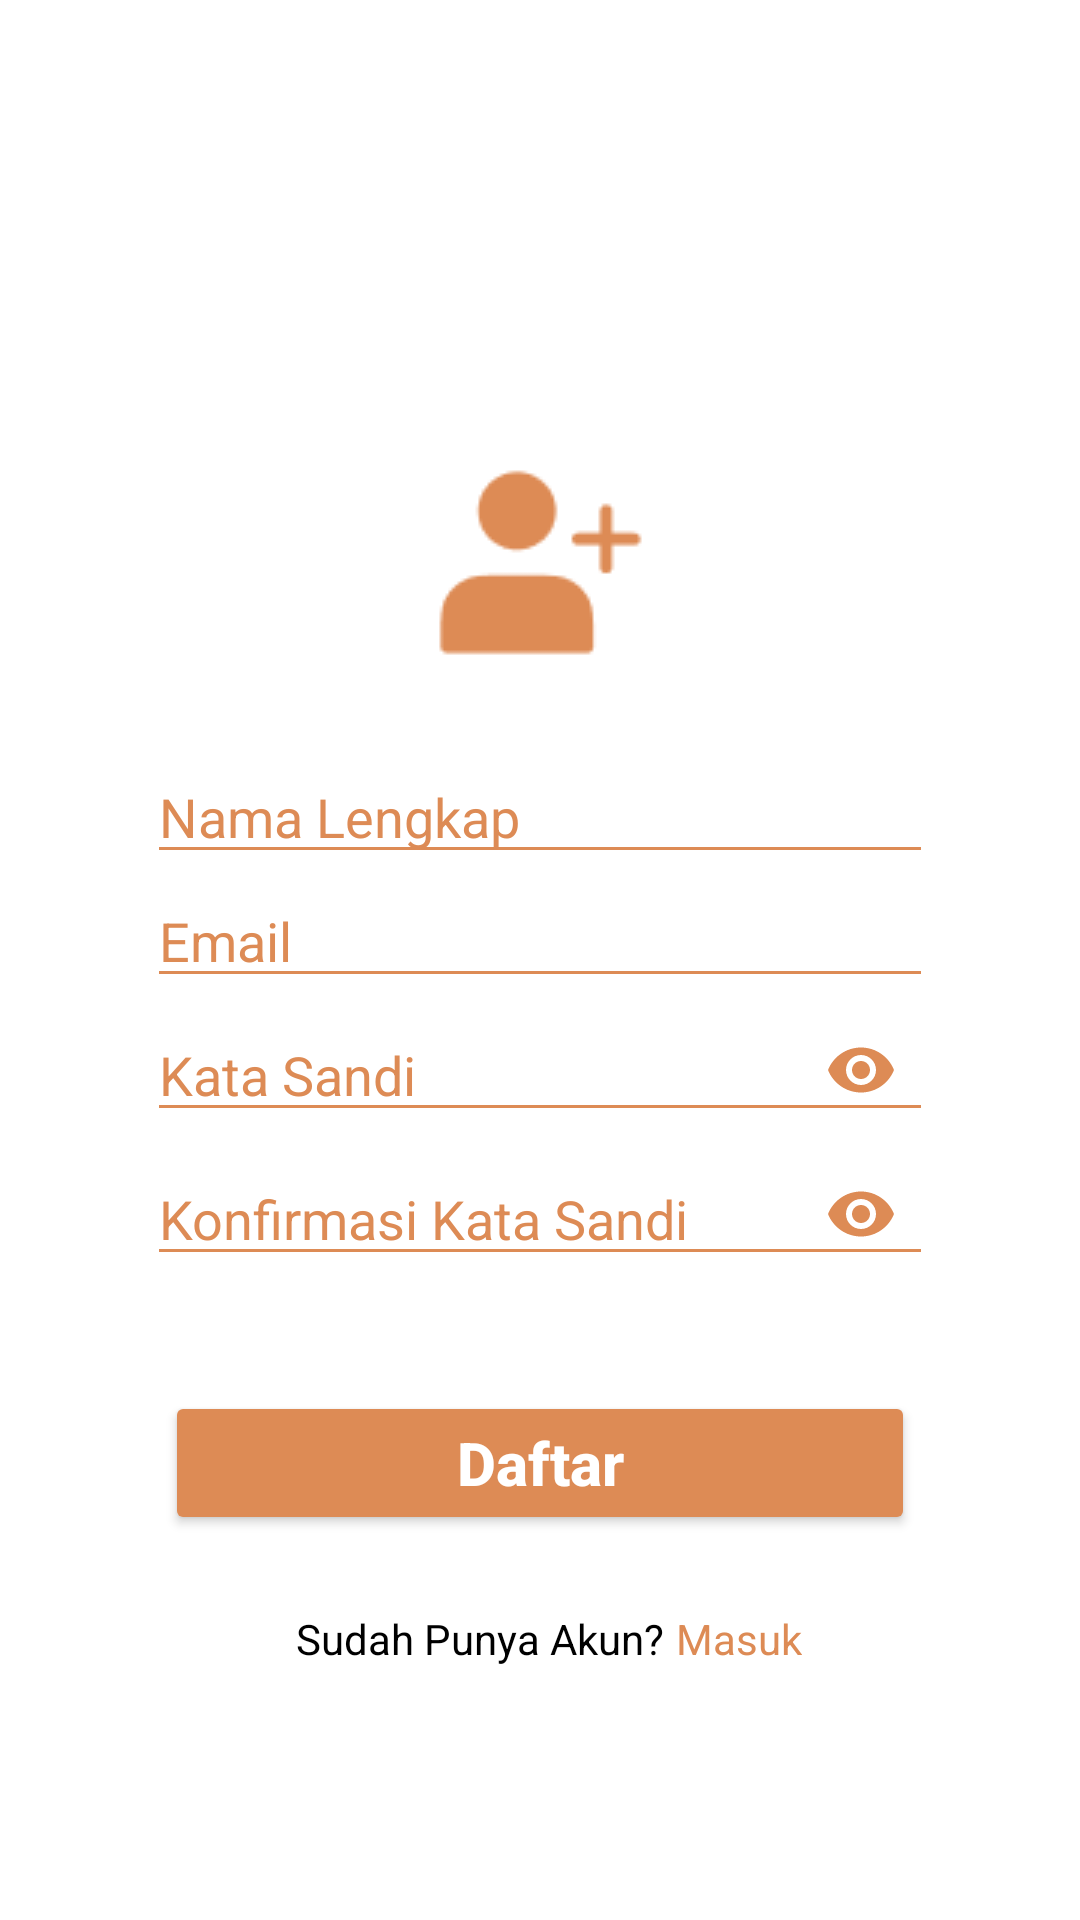

Icons on this 1080w x 1920h Android screen, each with its box as bbox=(x1, y1, x2, y2):
register: bbox=(439, 470, 642, 655)
